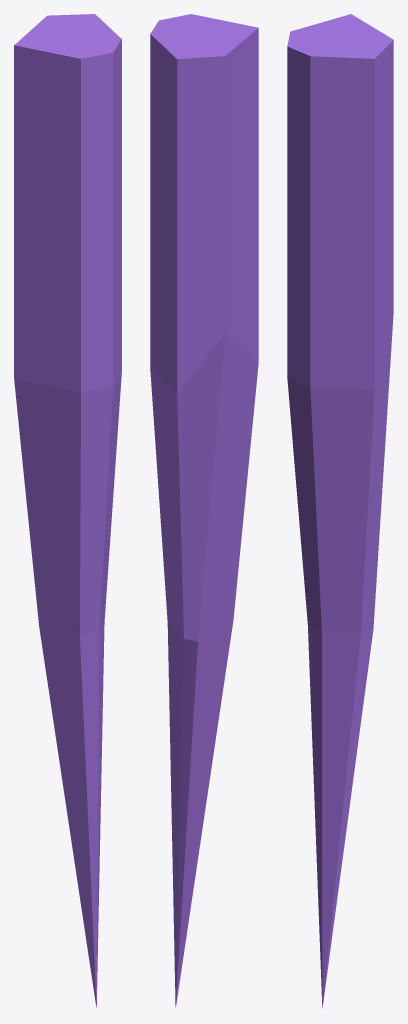
The model's file is stalactite_005_grp.fbx.
3 views of the same model, side by side, from view 1: azimuth 30°, elevation 25°; view 2: azimuth 210°, elevation 25°; view 3: azimuth 270°, elevation 25° (orthographic).
Visible parts, largest first — view 1: stalactite_005_grp; view 2: stalactite_005_grp; view 3: stalactite_005_grp.
Part boxes in pixels (x1,y1,x2,y2): stalactite_005_grp: (14, 14, 121, 1007); stalactite_005_grp: (150, 14, 258, 1007); stalactite_005_grp: (287, 14, 393, 1008).
Bounding box in the file's own units: 50 × 500 × 50.
